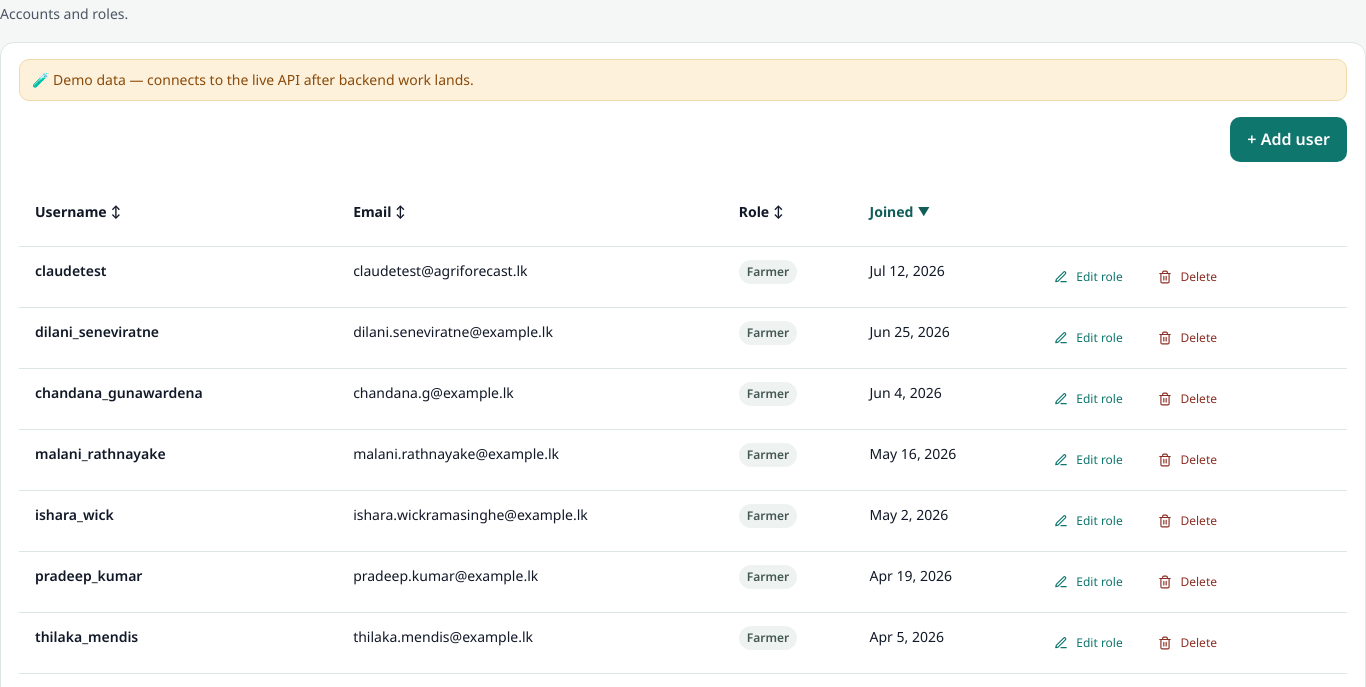
UsersPage — add user › creates the account, closes the dialog, flashes the name and shows the new row
Expected: the text "claudetest" is shown, [35,261,106,280]
Click the button "+ Add user" at (1289, 140), box [1230,117,1347,162]
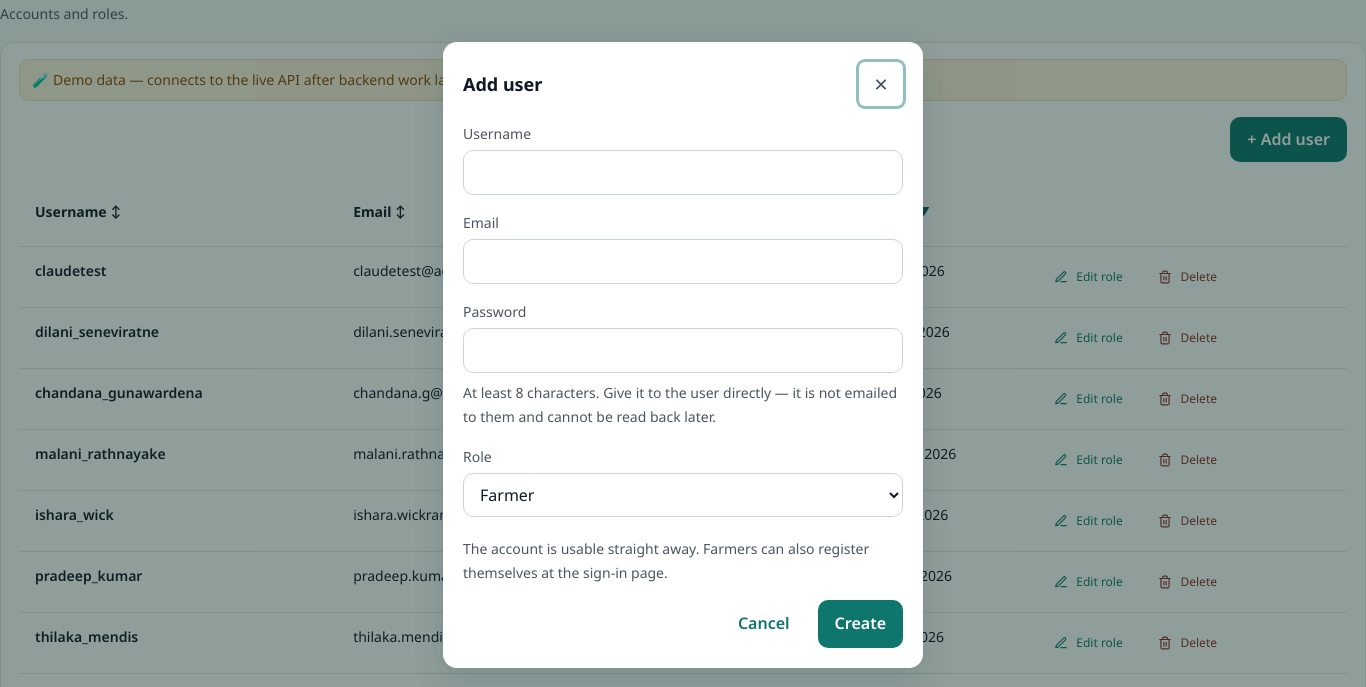
Type "newfarmer_a" into the field labelled "Username" at (683, 173), box [463,150,903,195]
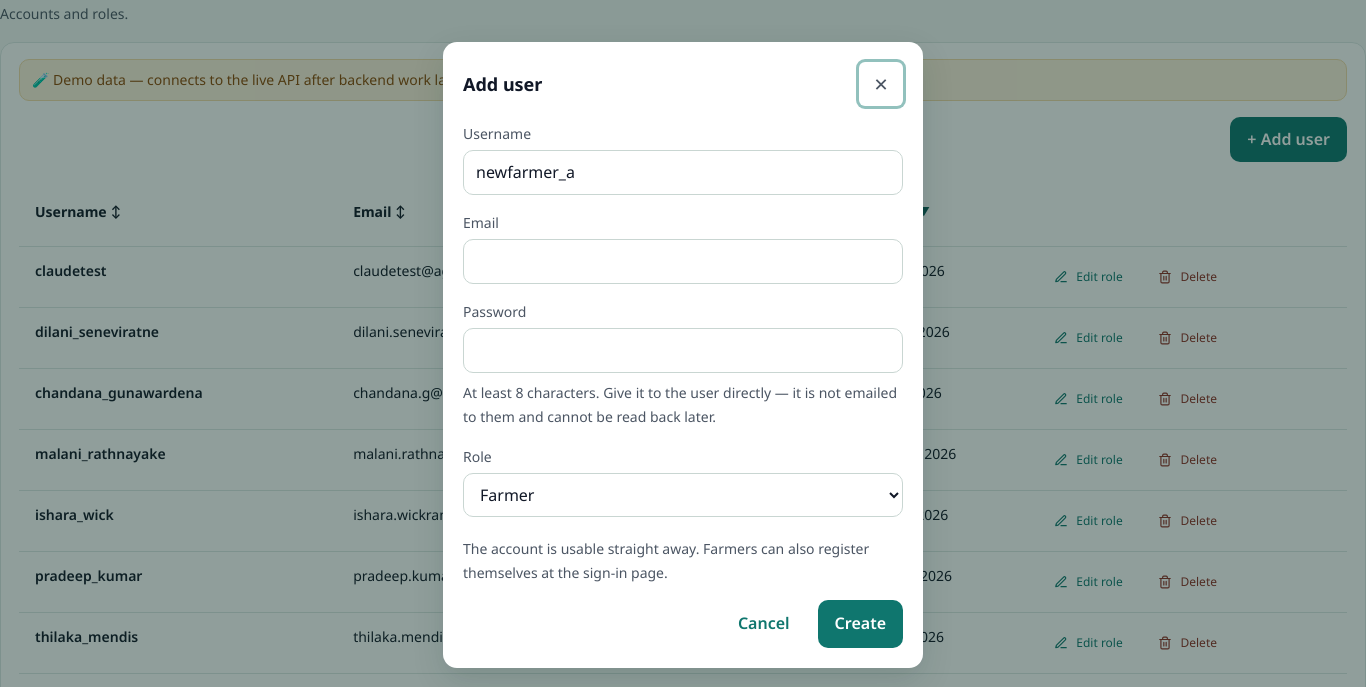
Type "newfarmer_a@test.lk" into the field labelled "Email" at (683, 262), box [463,239,903,284]
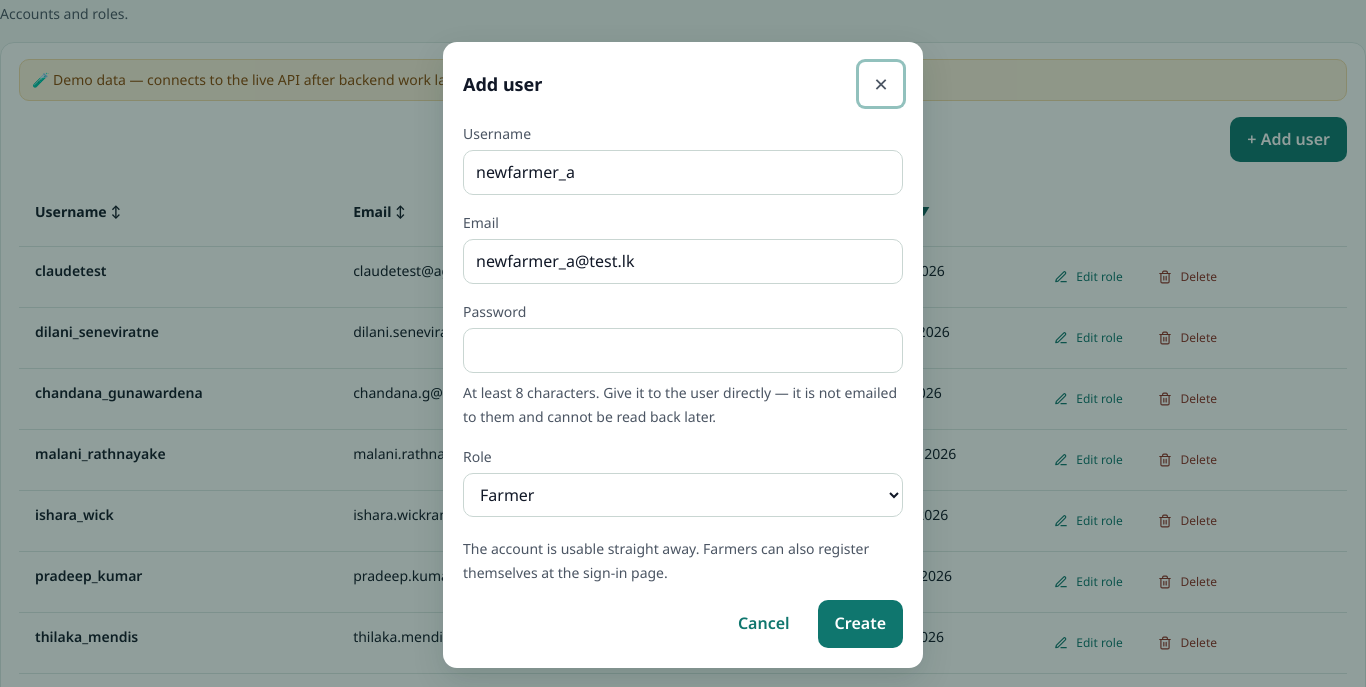
Type "correct-horse" into the password field at (683, 351), box [463,328,903,373]
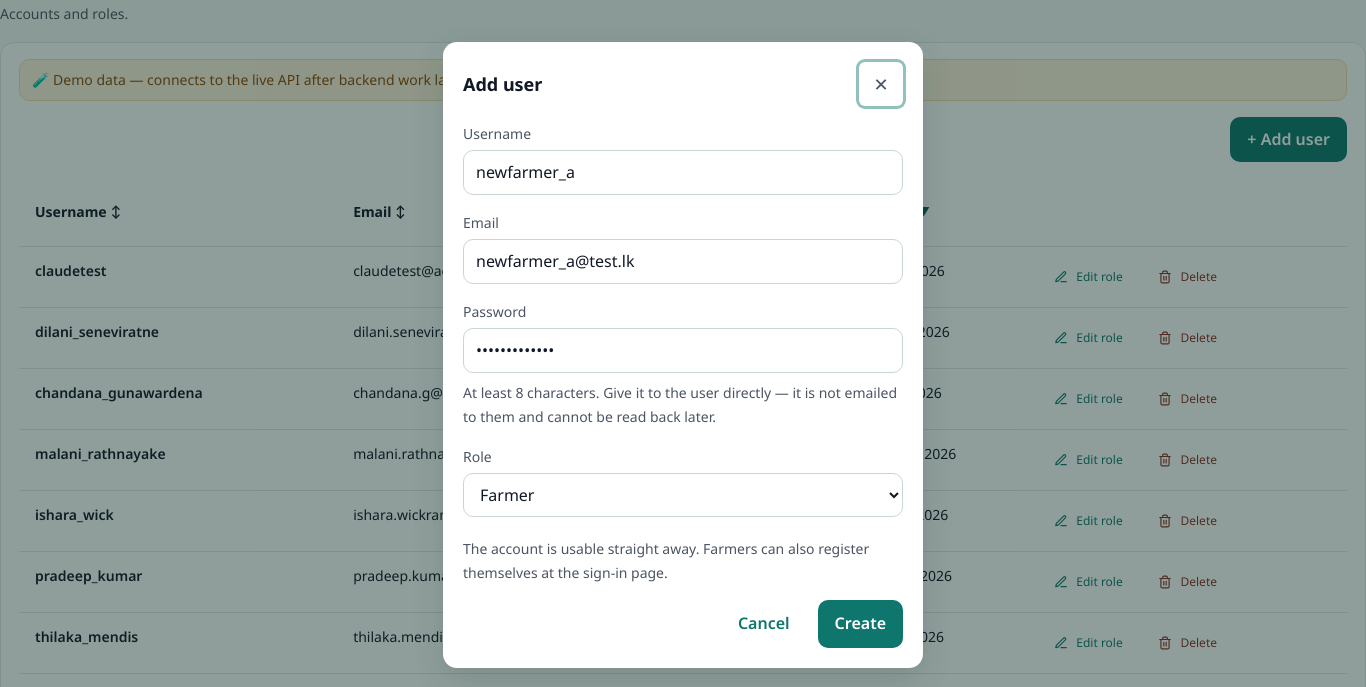
Click the button "Create" at (860, 624), box [818,600,903,648]
(page scrolled)
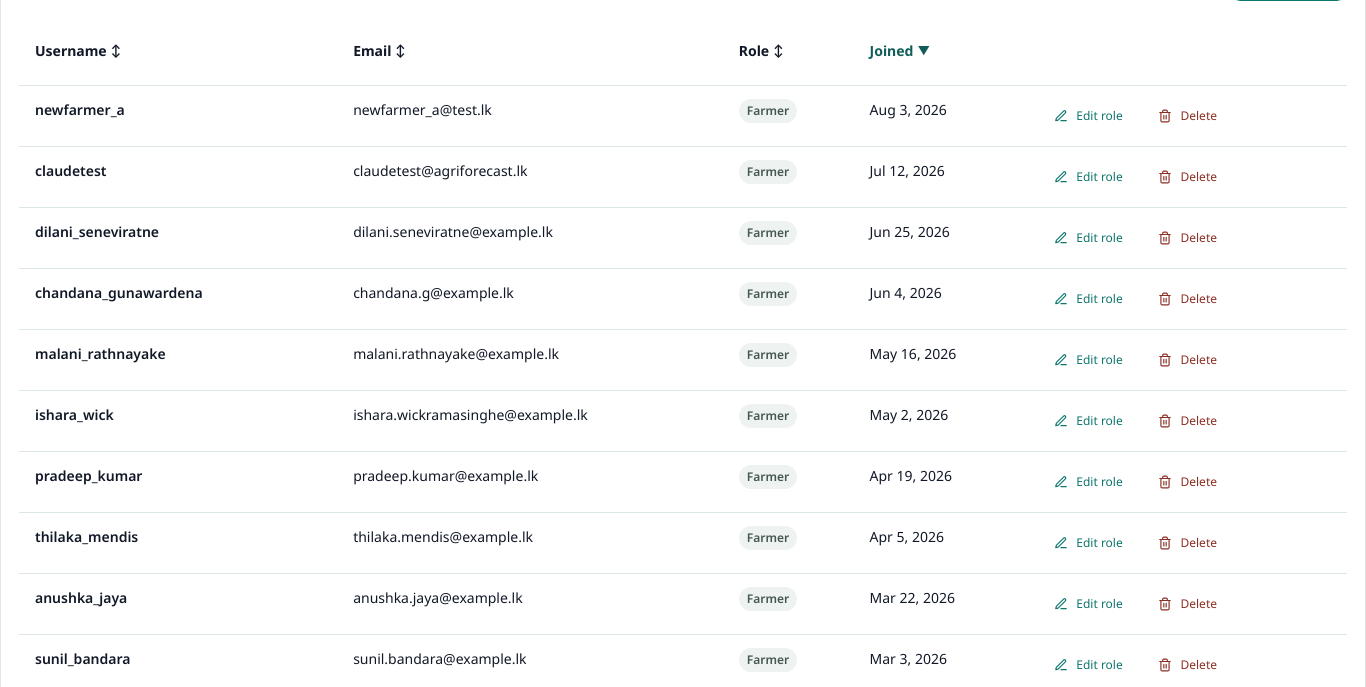
Now the dialog is gone
Now the table with class "adm-table" shows "newfarmer_a", box [35,100,125,119]
